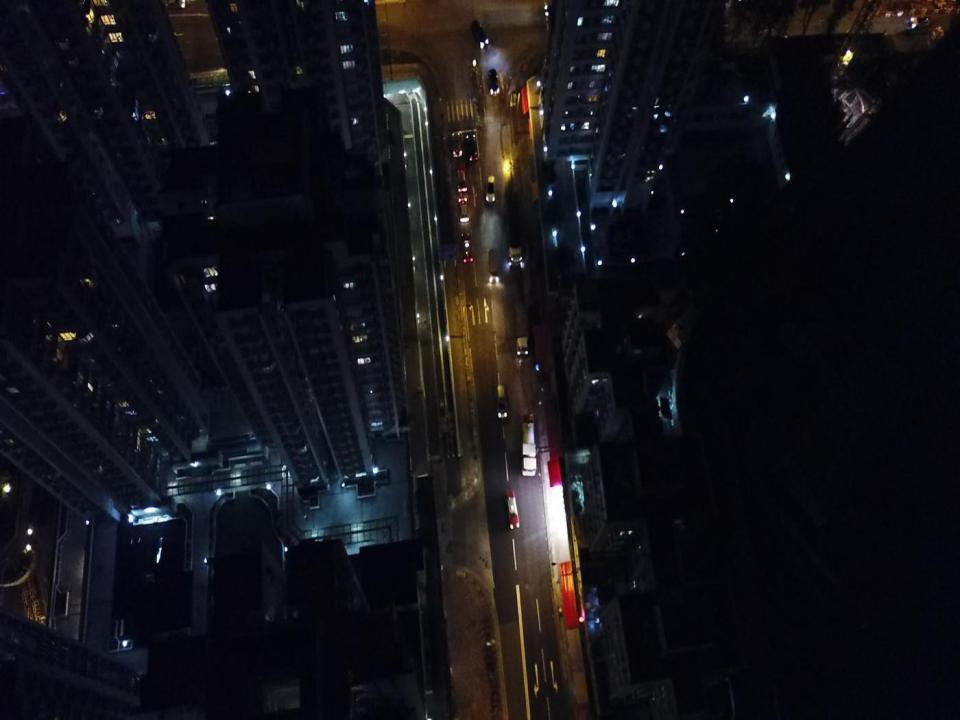car: (469, 18, 490, 50), (504, 491, 520, 529), (454, 162, 468, 192), (465, 132, 479, 162), (496, 384, 508, 418), (460, 231, 473, 262), (456, 196, 470, 222), (485, 174, 496, 203), (488, 68, 499, 96), (451, 132, 462, 158)
truck: (504, 191, 524, 267), (520, 413, 537, 476), (514, 302, 530, 356)
van: (488, 248, 498, 282)
